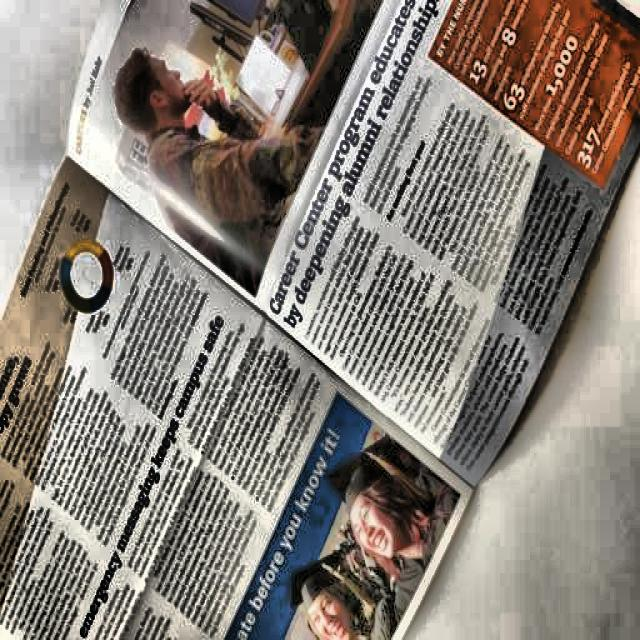paper: (27, 5, 618, 640)
